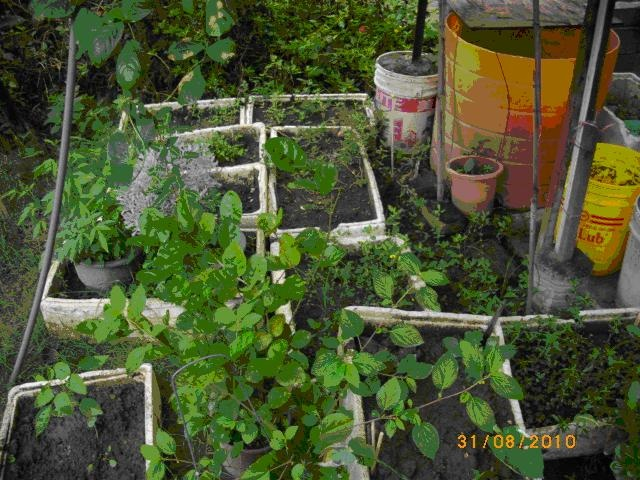bucket: (428, 12, 621, 209), (575, 142, 640, 276), (372, 51, 438, 157)
styrofoam: (338, 301, 524, 480), (38, 226, 265, 337), (494, 306, 640, 458), (1, 360, 163, 480), (265, 125, 386, 237), (115, 96, 244, 130)
